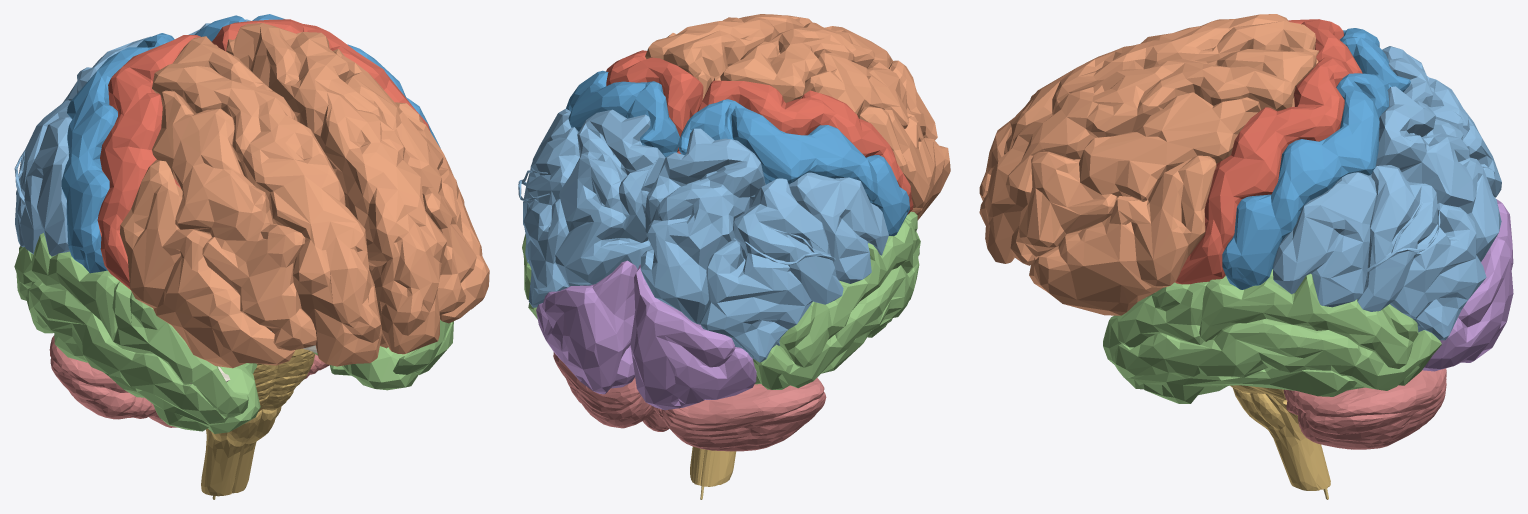
File: nervous.glb
The picture shows the model from 3 angles, left to right: view 1: azimuth 30°, elevation 25°; view 2: azimuth 150°, elevation 25°; view 3: azimuth 270°, elevation 25°; orthographic projection. The views are drawn at different scales.
Parts seen in each view (by area): view 1: frontal, temporal, motor, sensory, parietal, brainstem, cerebellum; view 2: parietal, frontal, occipital, sensory, temporal, cerebellum, motor, brainstem; view 3: frontal, parietal, temporal, sensory, motor, cerebellum, occipital, brainstem.
Boxes of the visible parts, x1,y1,x2,y2 form: frontal: (120, 23, 489, 368); temporal: (14, 232, 453, 433); motor: (97, 19, 430, 289); sensory: (61, 14, 440, 273); parietal: (14, 19, 250, 256); brainstem: (201, 348, 315, 496); cerebellum: (49, 335, 329, 427); parietal: (518, 108, 888, 362); frontal: (645, 14, 950, 220); occipital: (536, 260, 756, 410); sensory: (566, 70, 909, 235); temporal: (522, 211, 920, 389); cerebellum: (553, 352, 826, 451); motor: (606, 50, 913, 214); brainstem: (690, 446, 736, 486); frontal: (979, 14, 1318, 315); parietal: (1273, 46, 1501, 340); temporal: (1103, 269, 1441, 403); sensory: (1222, 28, 1410, 289); motor: (1175, 19, 1362, 284); cerebellum: (1283, 368, 1446, 449); occipital: (1422, 199, 1513, 371); brainstem: (1230, 385, 1330, 490).
Bounding box in the file's own units: 0.1411 × 0.172 × 0.1801.
